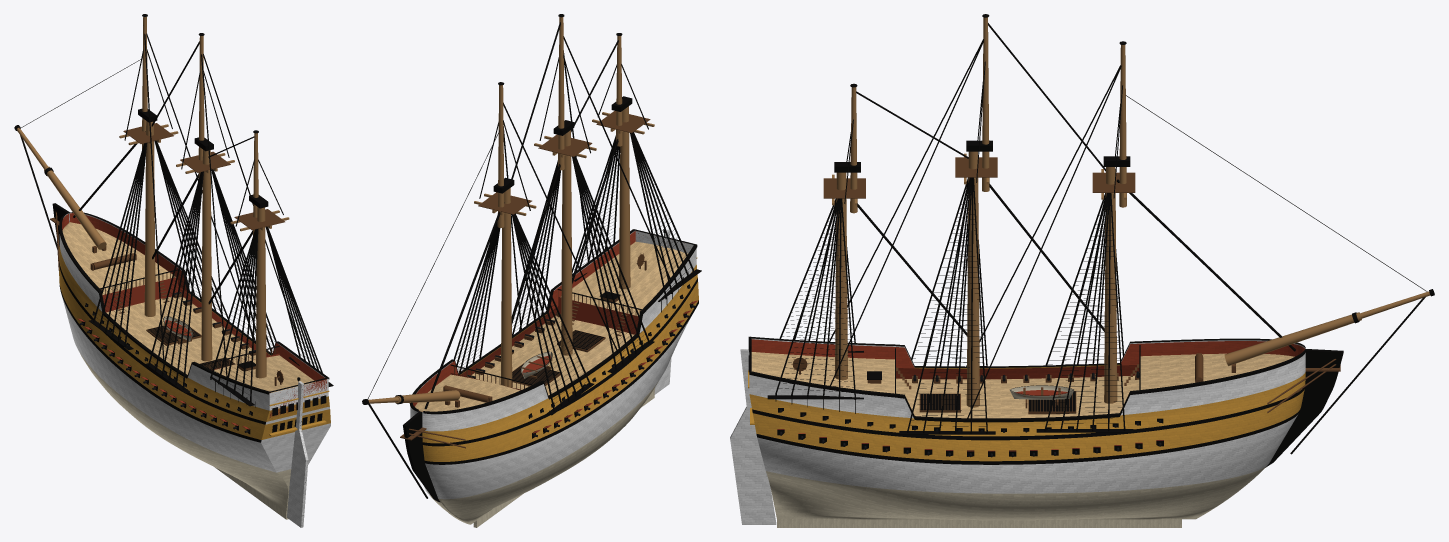
The model's file is third_rate.glb.
The picture shows the model from 3 angles, left to right: view 1: azimuth 30°, elevation 25°; view 2: azimuth 150°, elevation 25°; view 3: azimuth 270°, elevation 25°; orthographic projection. The views are drawn at different scales.
Visible parts, largest first — view 1: hull; view 2: hull; view 3: hull.
Boxes of the visible parts, x1,y1,x2,y2 form: hull: (14,14,333,527); hull: (362,14,701,527); hull: (730,14,1434,527).
Size of the model in its own units: 15.02 by 53.42 by 66.71.
9 materials, 5 textured.
